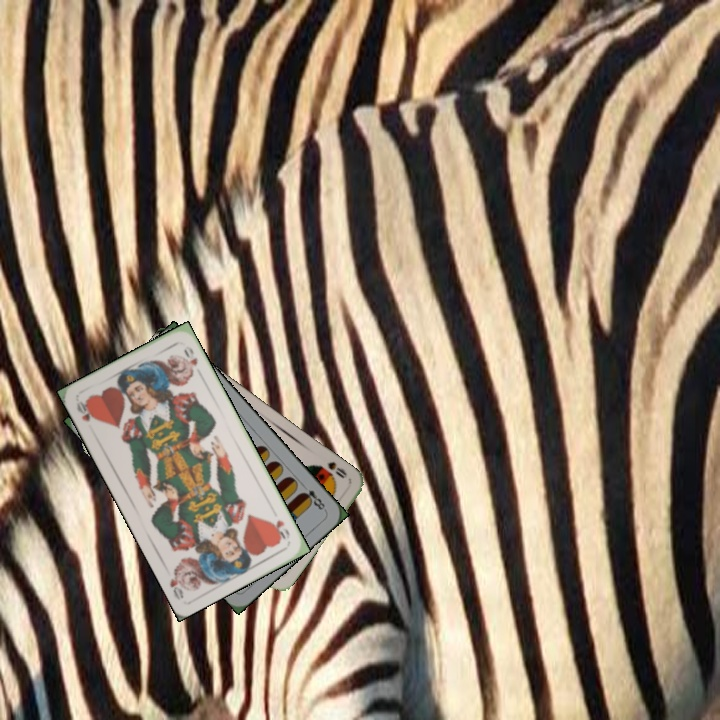E8: (297, 485, 328, 513)
HO: (72, 396, 98, 424), (267, 516, 293, 543)
SO: (322, 457, 350, 481)
